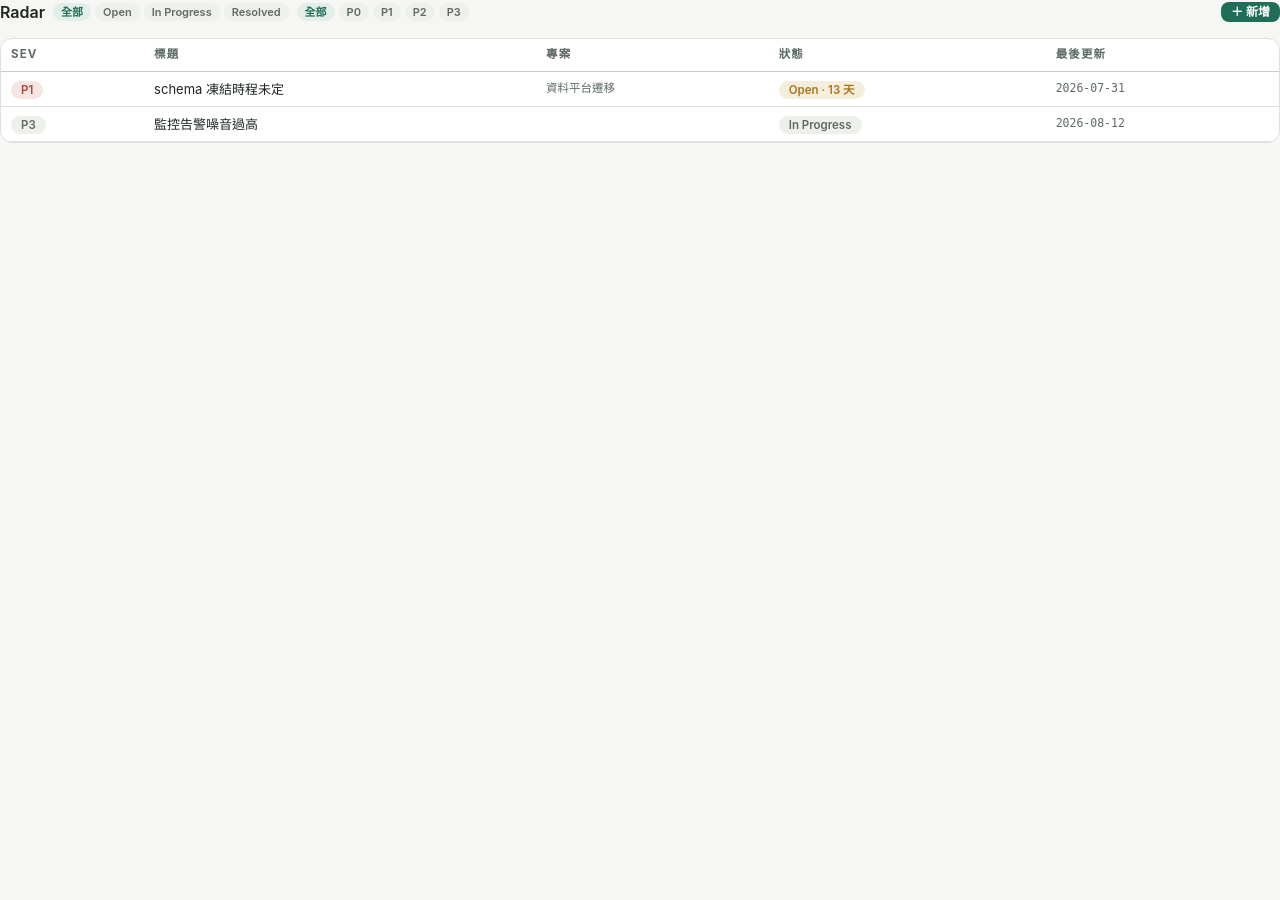
Radar › clears a set project by sending an explicit null, then closes
This screenshot has width=1280, height=900.
Click the text "schema 凍結時程未定": coordinates (219, 89) [144,71,536,106]
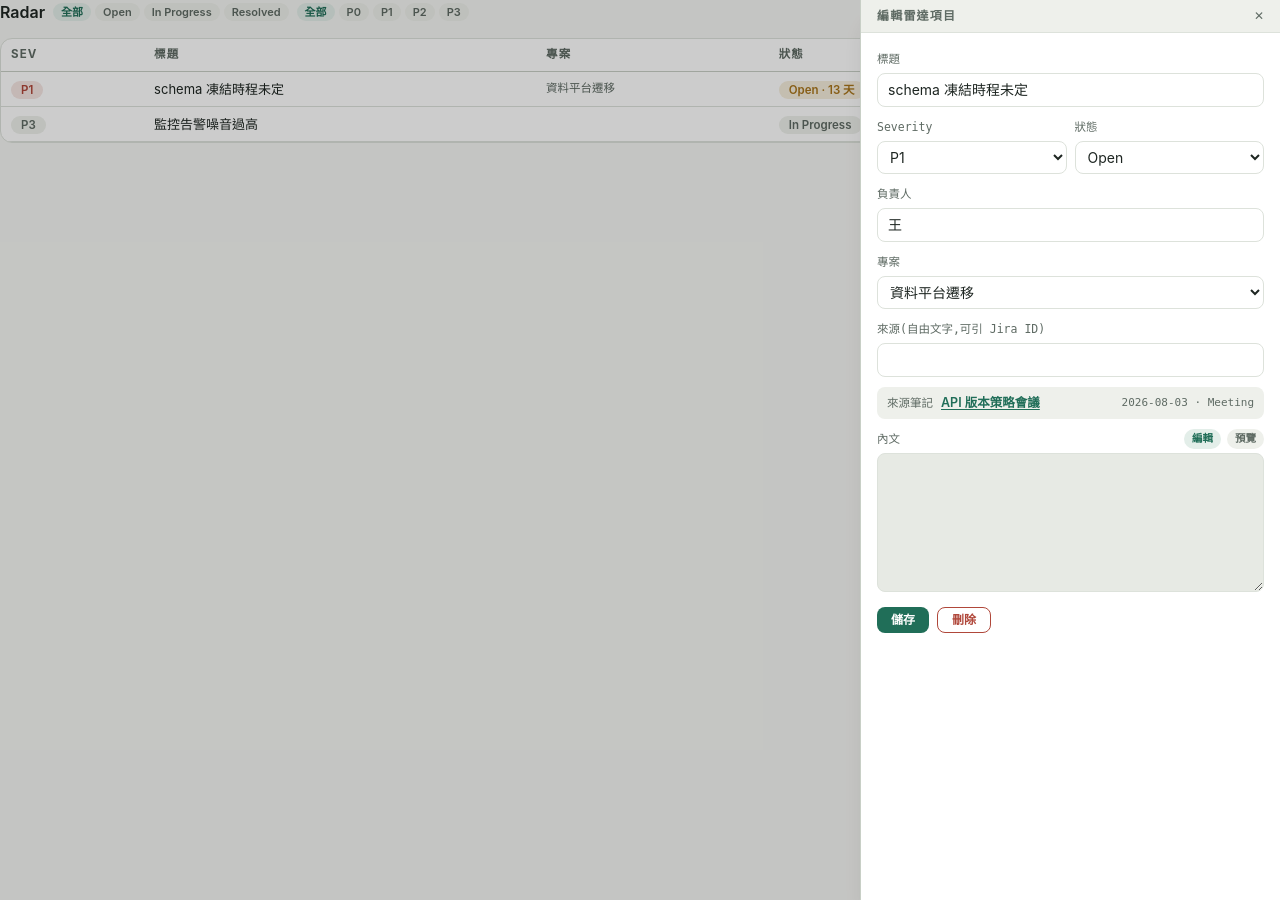
Select "無專案" in the dropdown labelled "專案": coordinates (1070, 292) [877,276,1264,309]
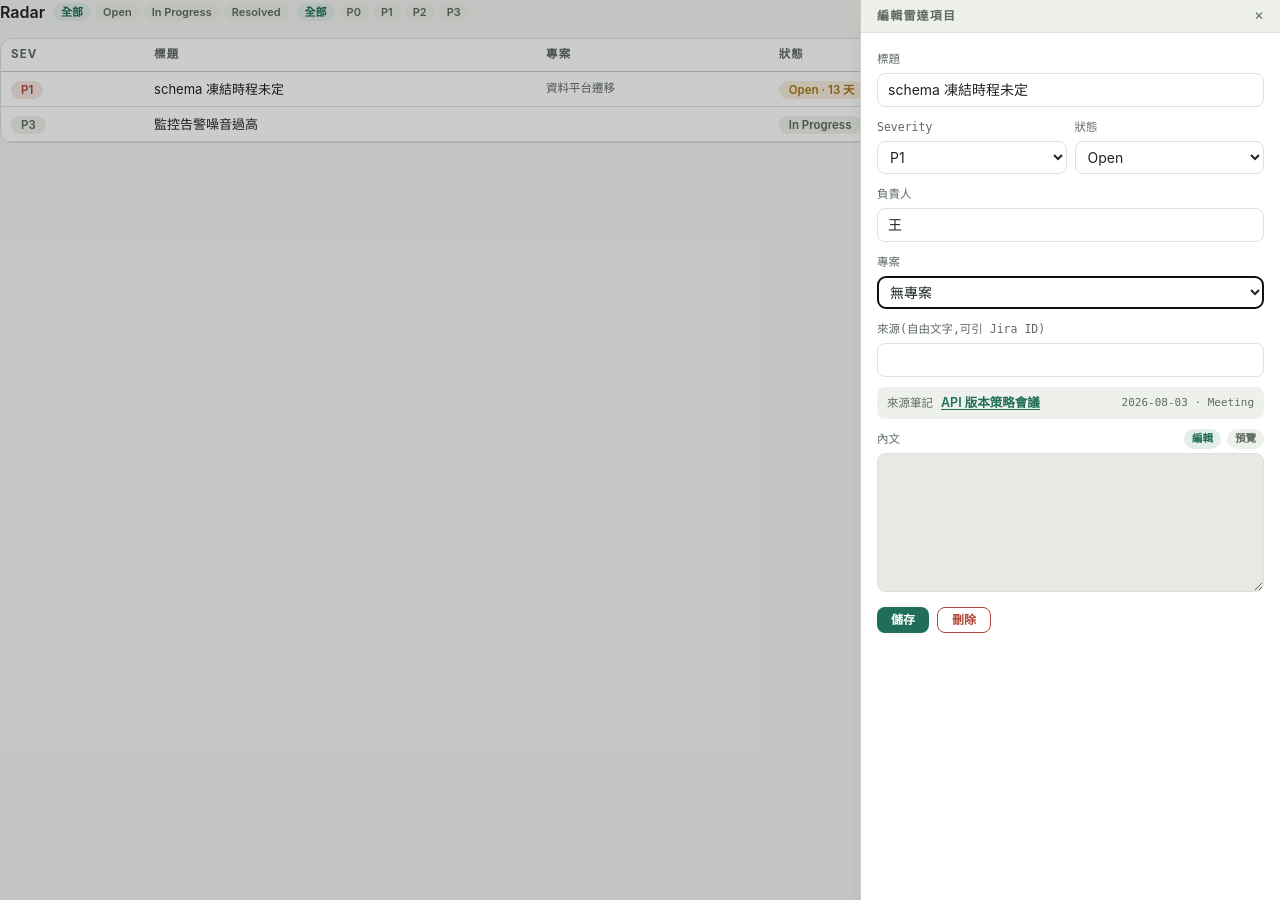
Click the button "儲存": coordinates (903, 620) [877,607,929,633]
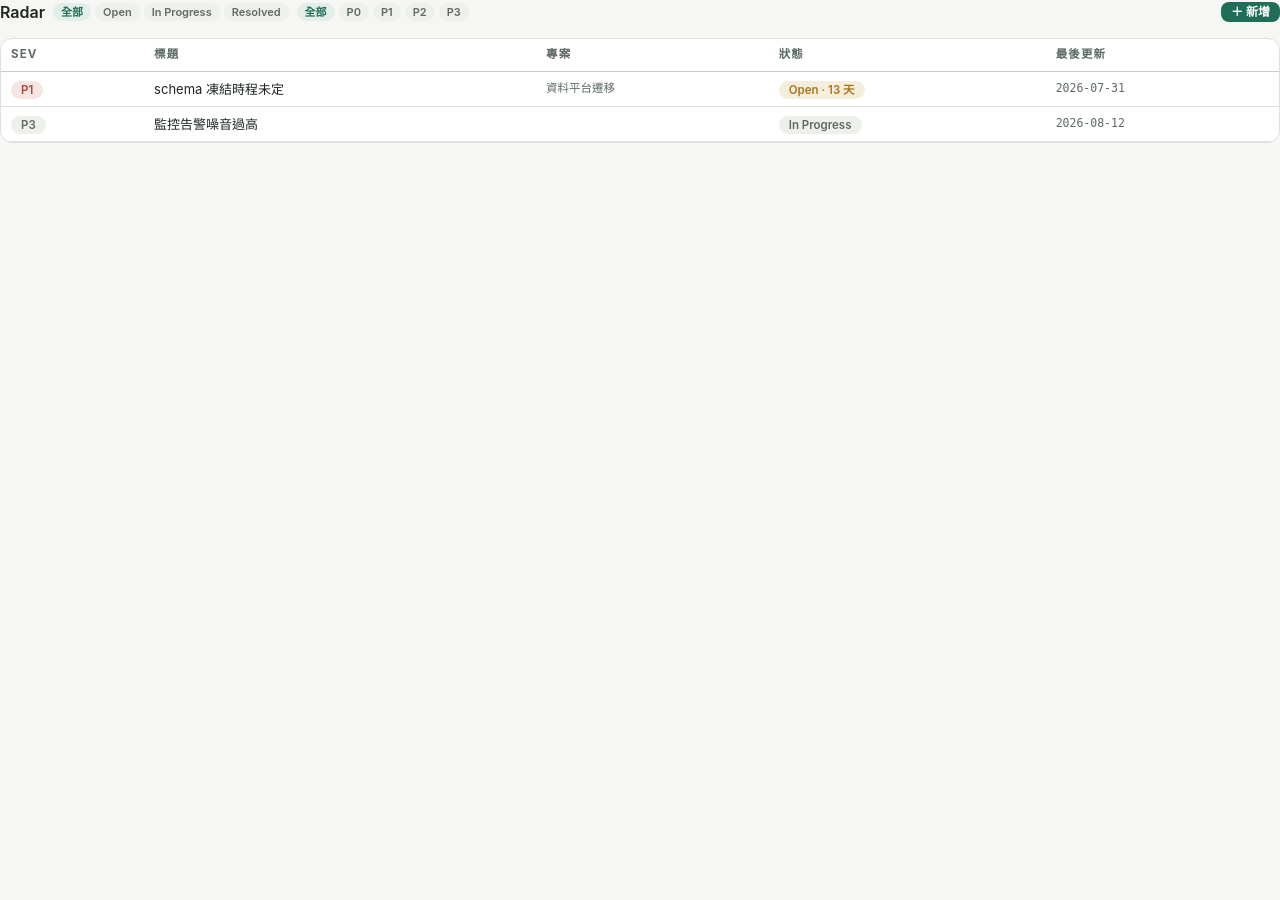
Now the heading "編輯雷達項目" is gone
